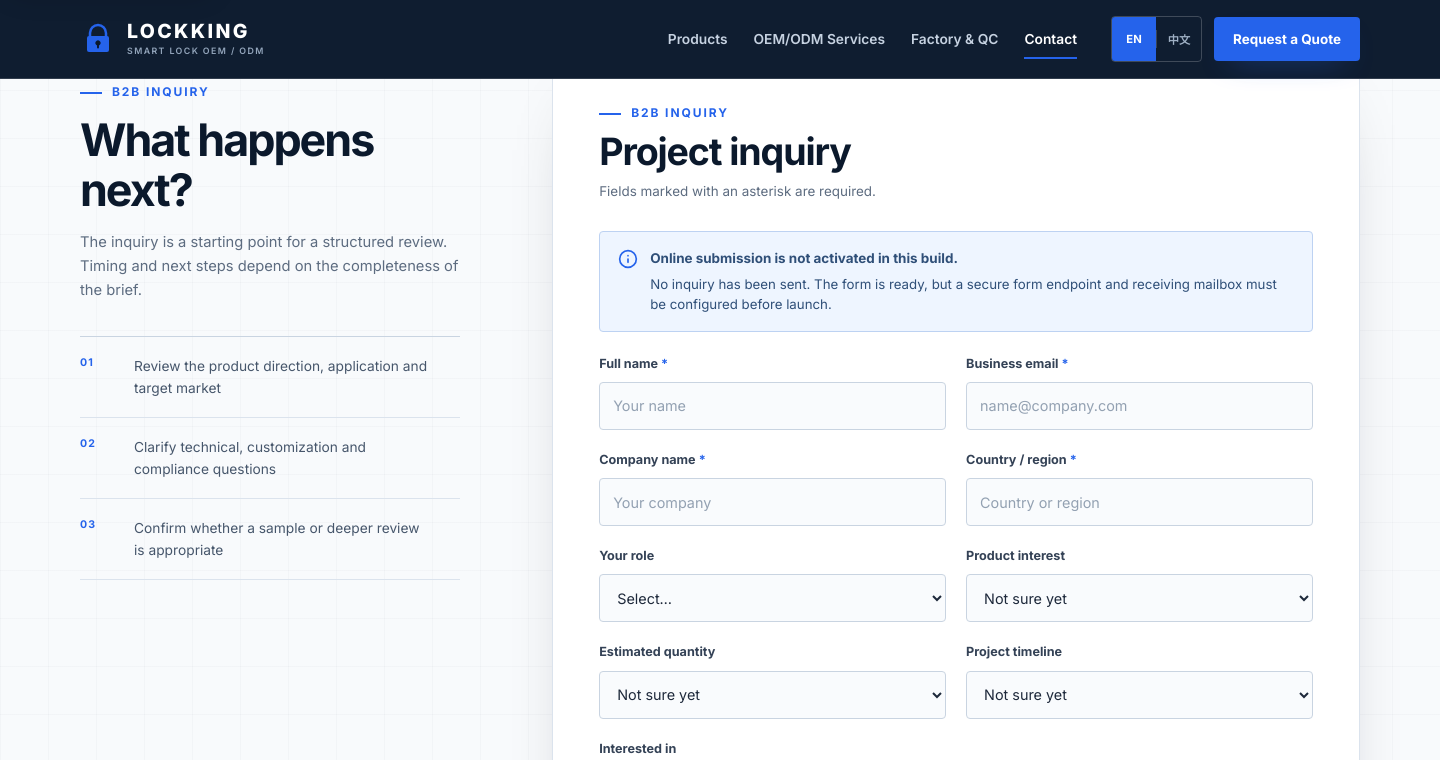
LOCKKING site interactions › never reports success when the inquiry endpoint is not configured
(page scrolled)
Type "Alex Morgan" into the field labelled "Full name *" at {"x": 773, "y": 406}, box [599,382,946,430]
Type "alex@example.com" into the field labelled "Business email *" at {"x": 1140, "y": 406}, box [966,382,1313,430]
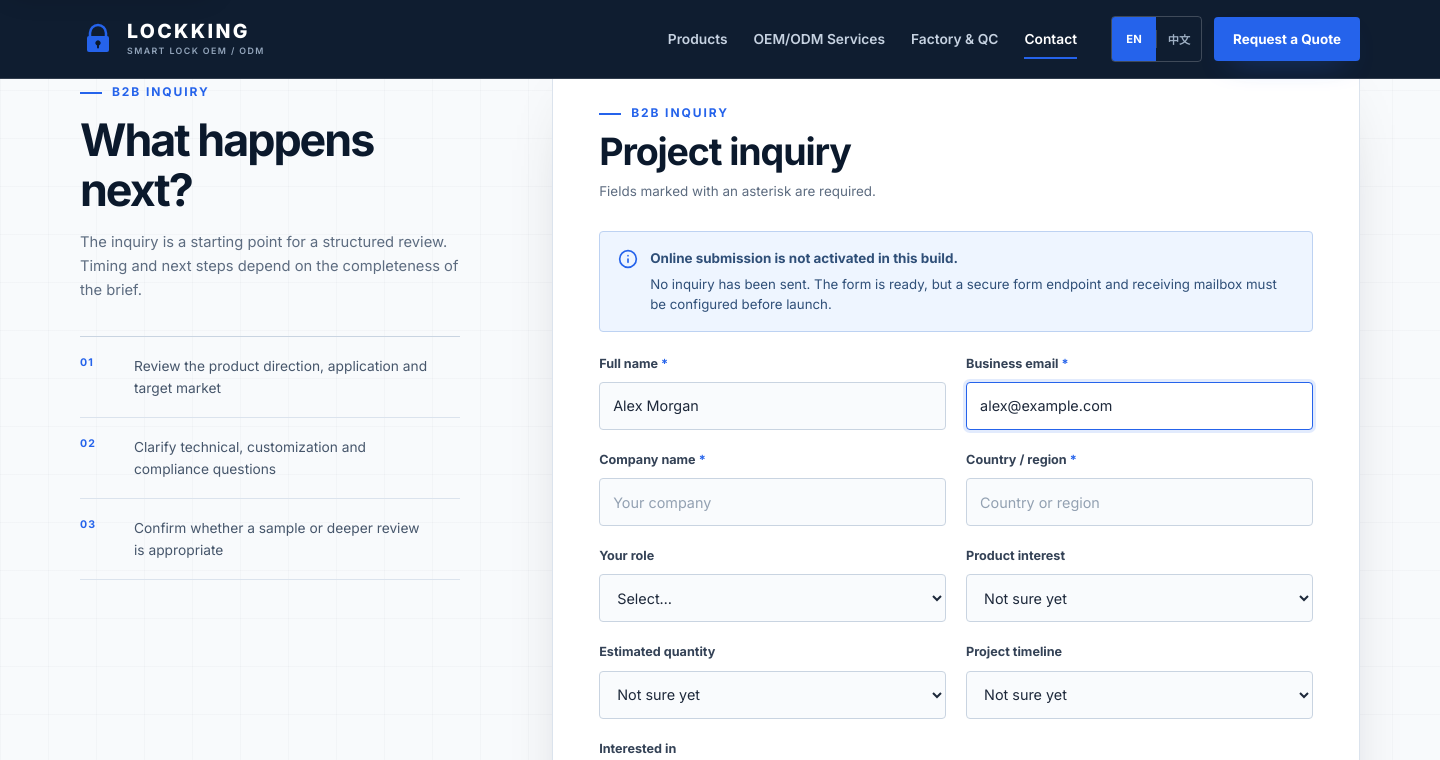
Type "Example Brand" into the field labelled "Company name *" at {"x": 773, "y": 502}, box [599,478,946,526]
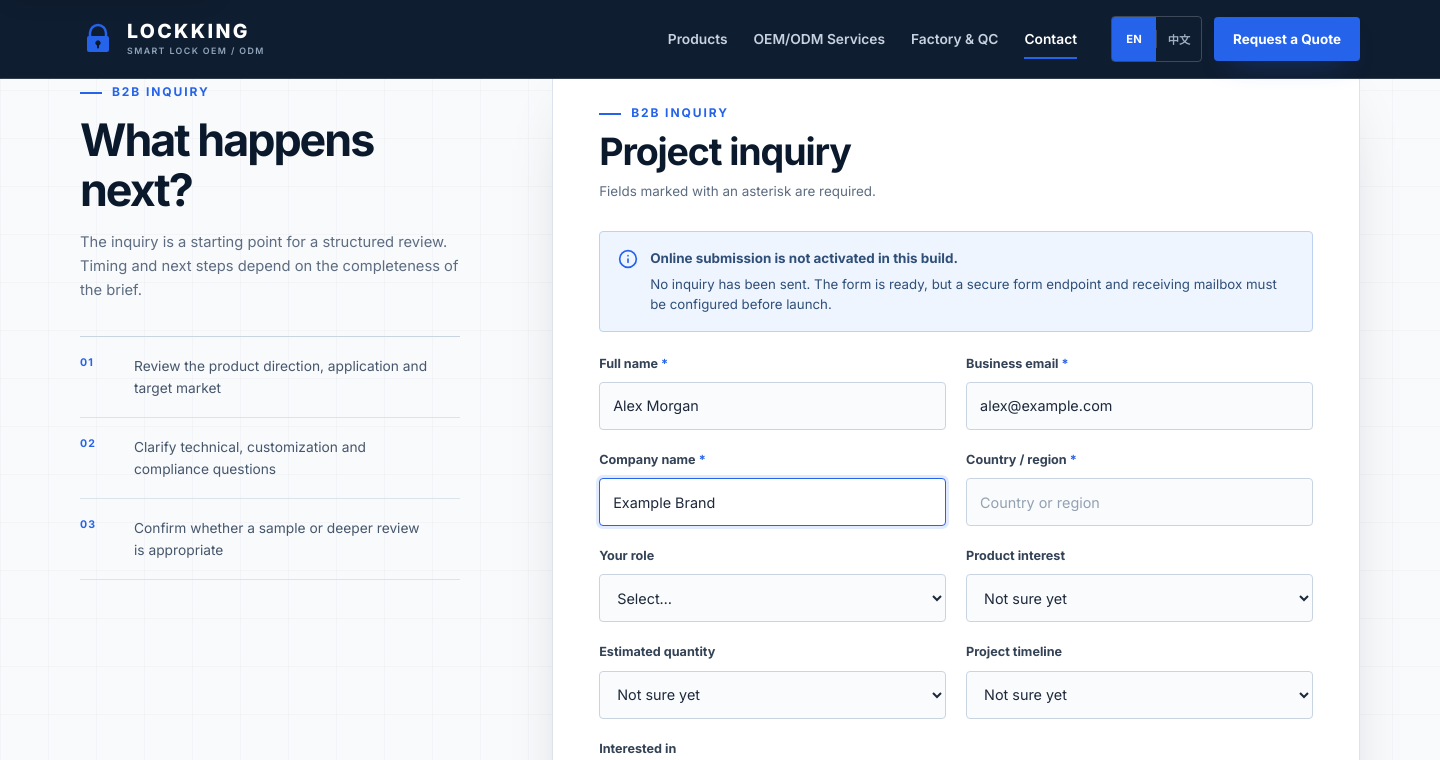
Type "Germany" into the field labelled "Country / region *" at {"x": 1140, "y": 502}, box [966,478,1313,526]
(page scrolled)
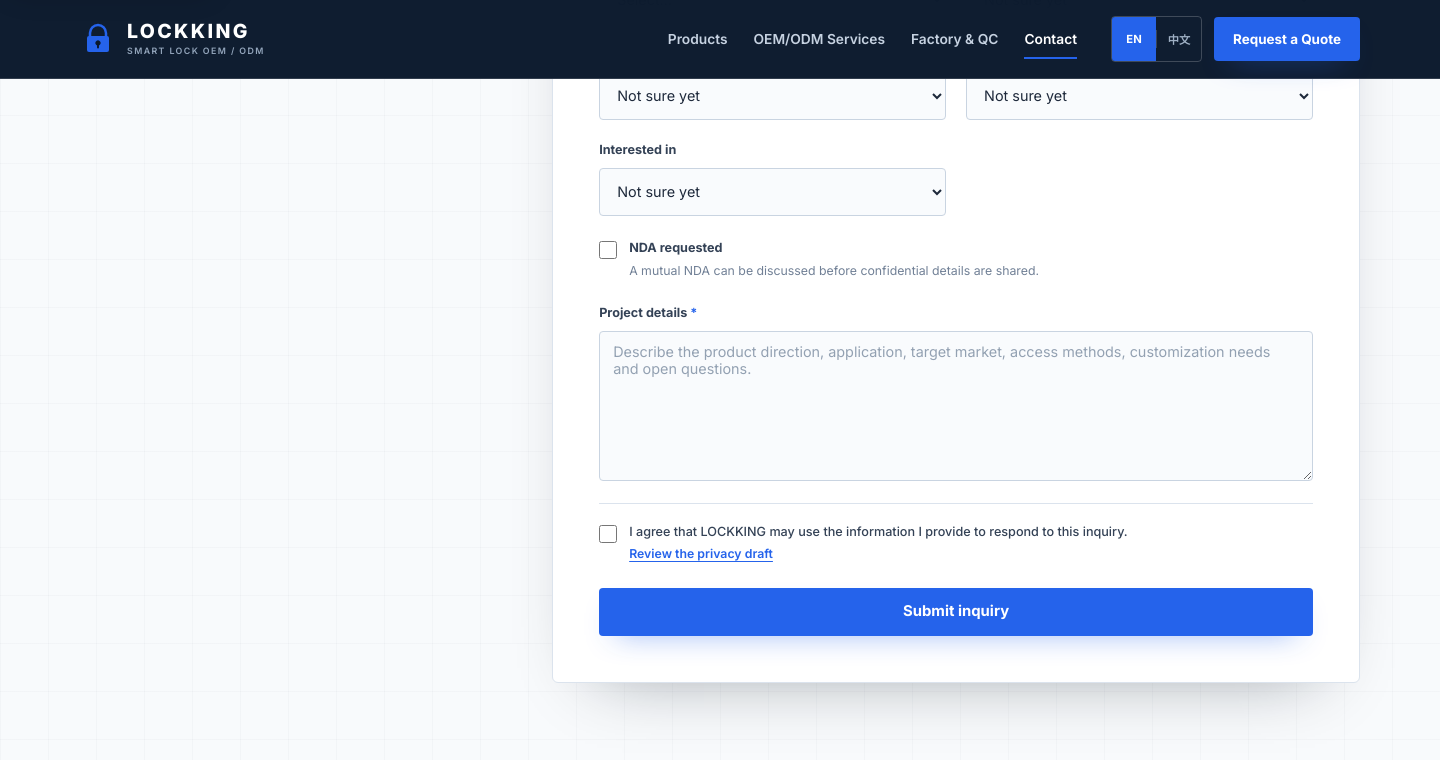
Type "We are evaluating a slim-frame smart lock for a residential project in Germany." into the text box labelled "Project details *" at {"x": 956, "y": 406}, box [599,331,1313,481]
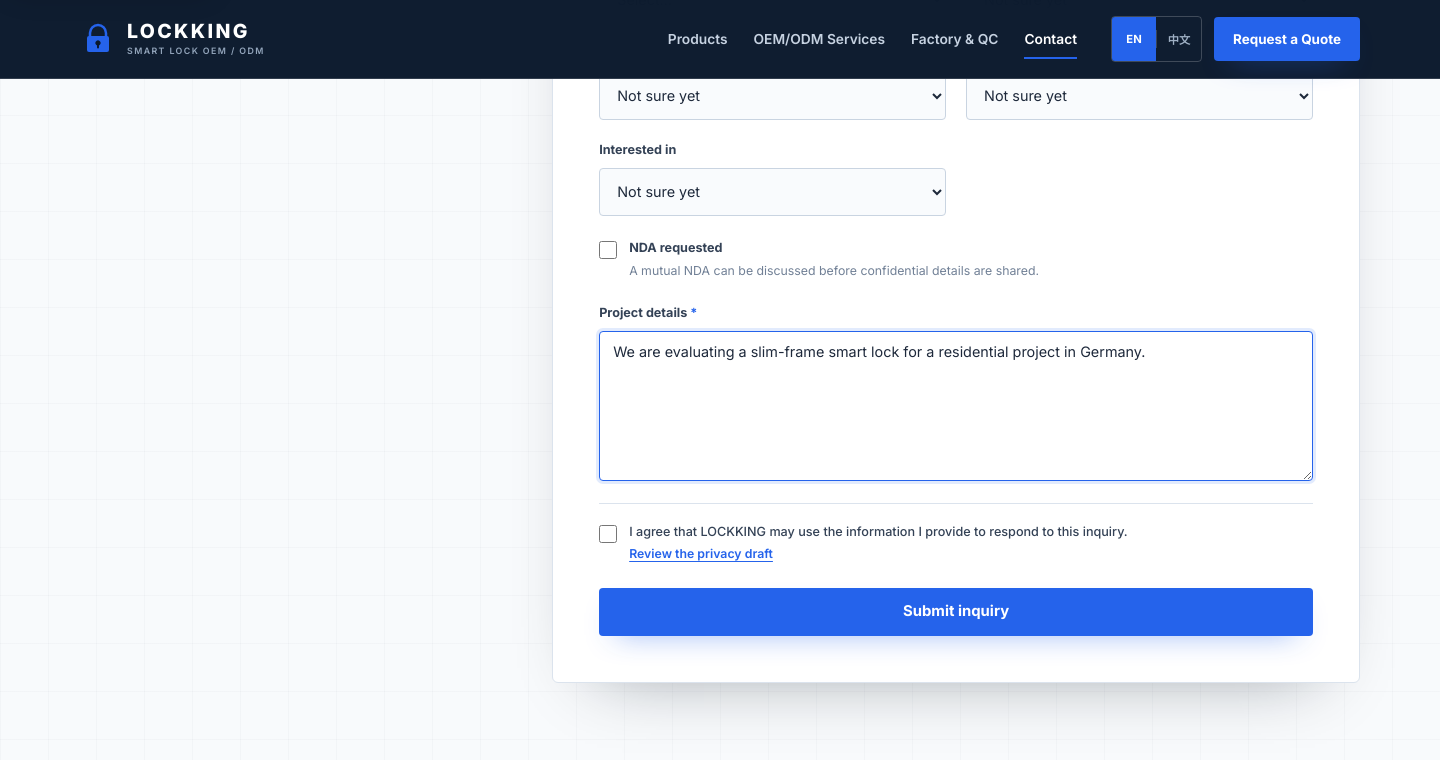
Click the checkbox labelled "I agree that LOCKKING" at {"x": 608, "y": 534}, box [599,525,617,543]
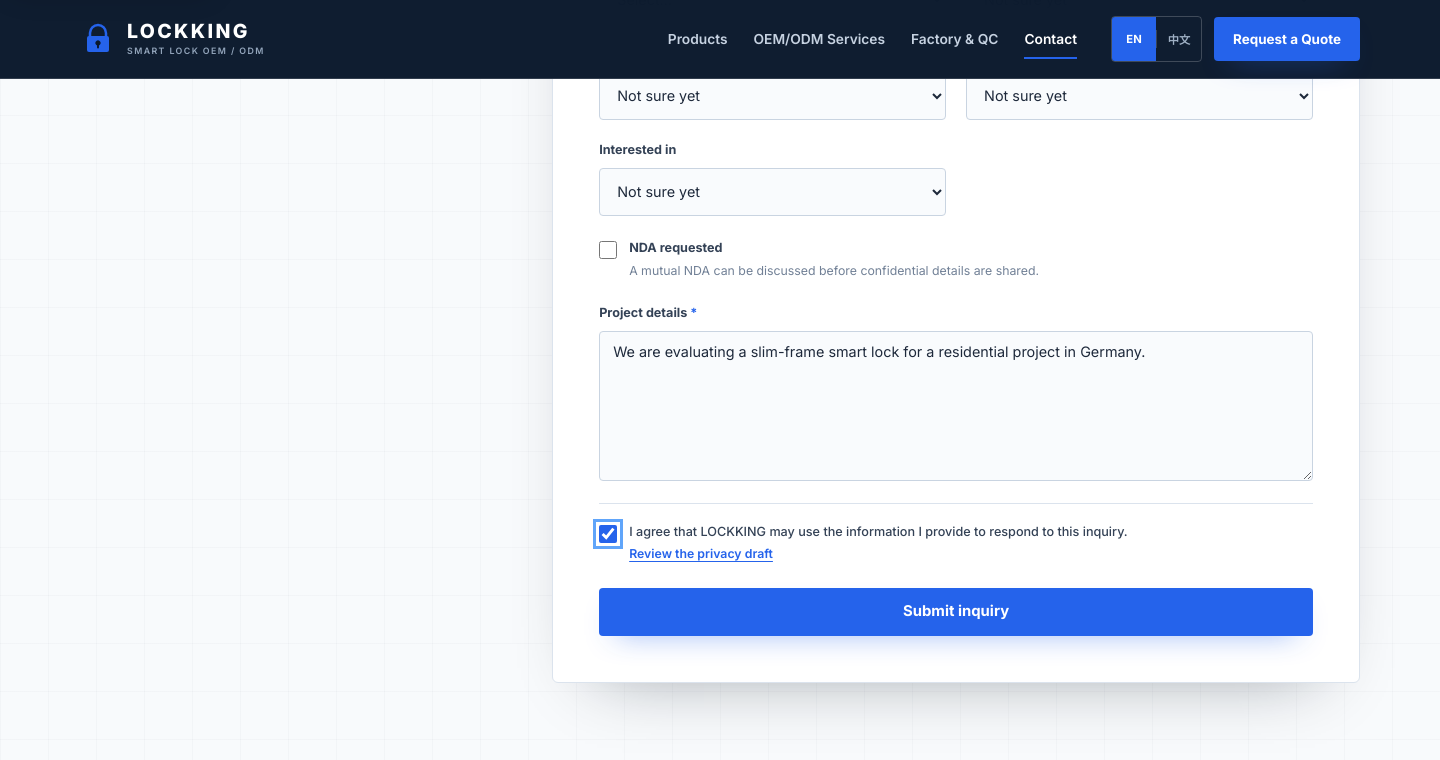
Click the button "Submit inquiry" at {"x": 956, "y": 612}, box [599,588,1313,636]
(page scrolled)
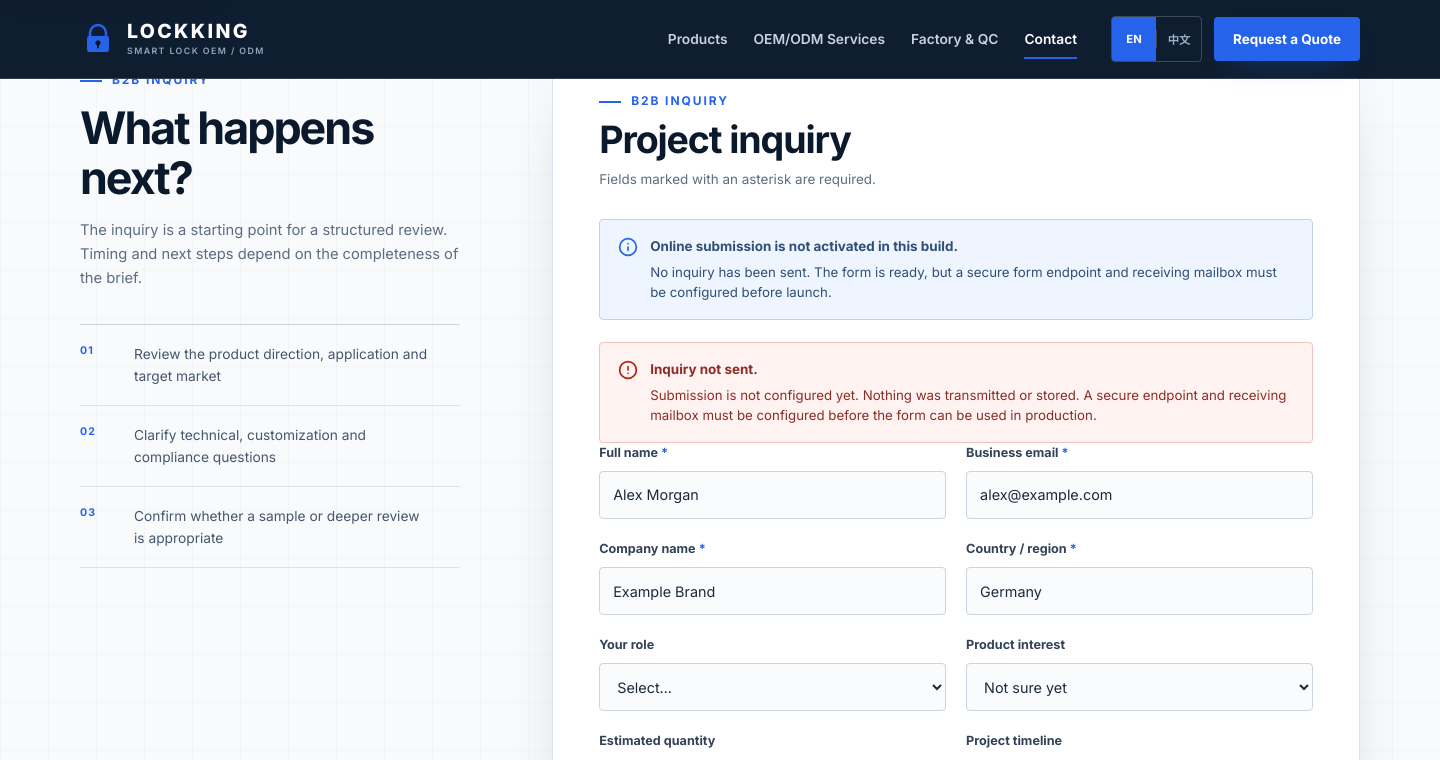
Expected: the text "Nothing was transmitted or stored" is shown, [650,386,1286,423]
